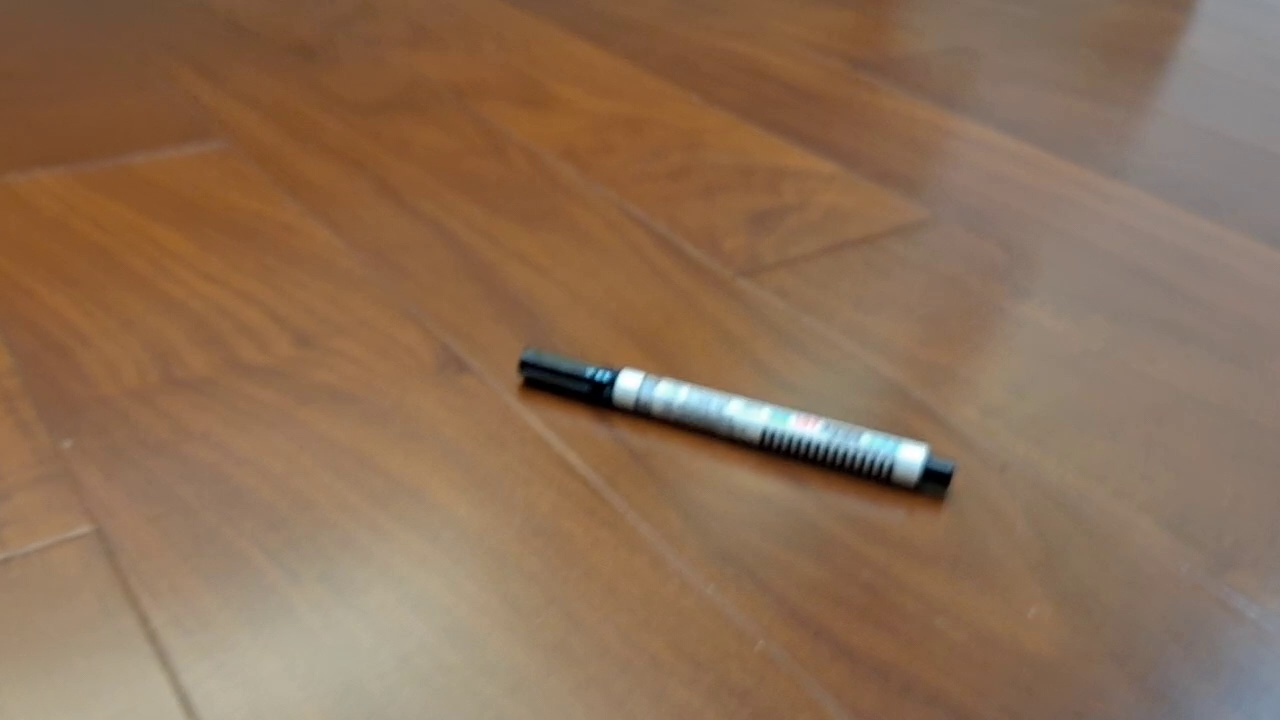pen: (515, 346, 956, 500)
